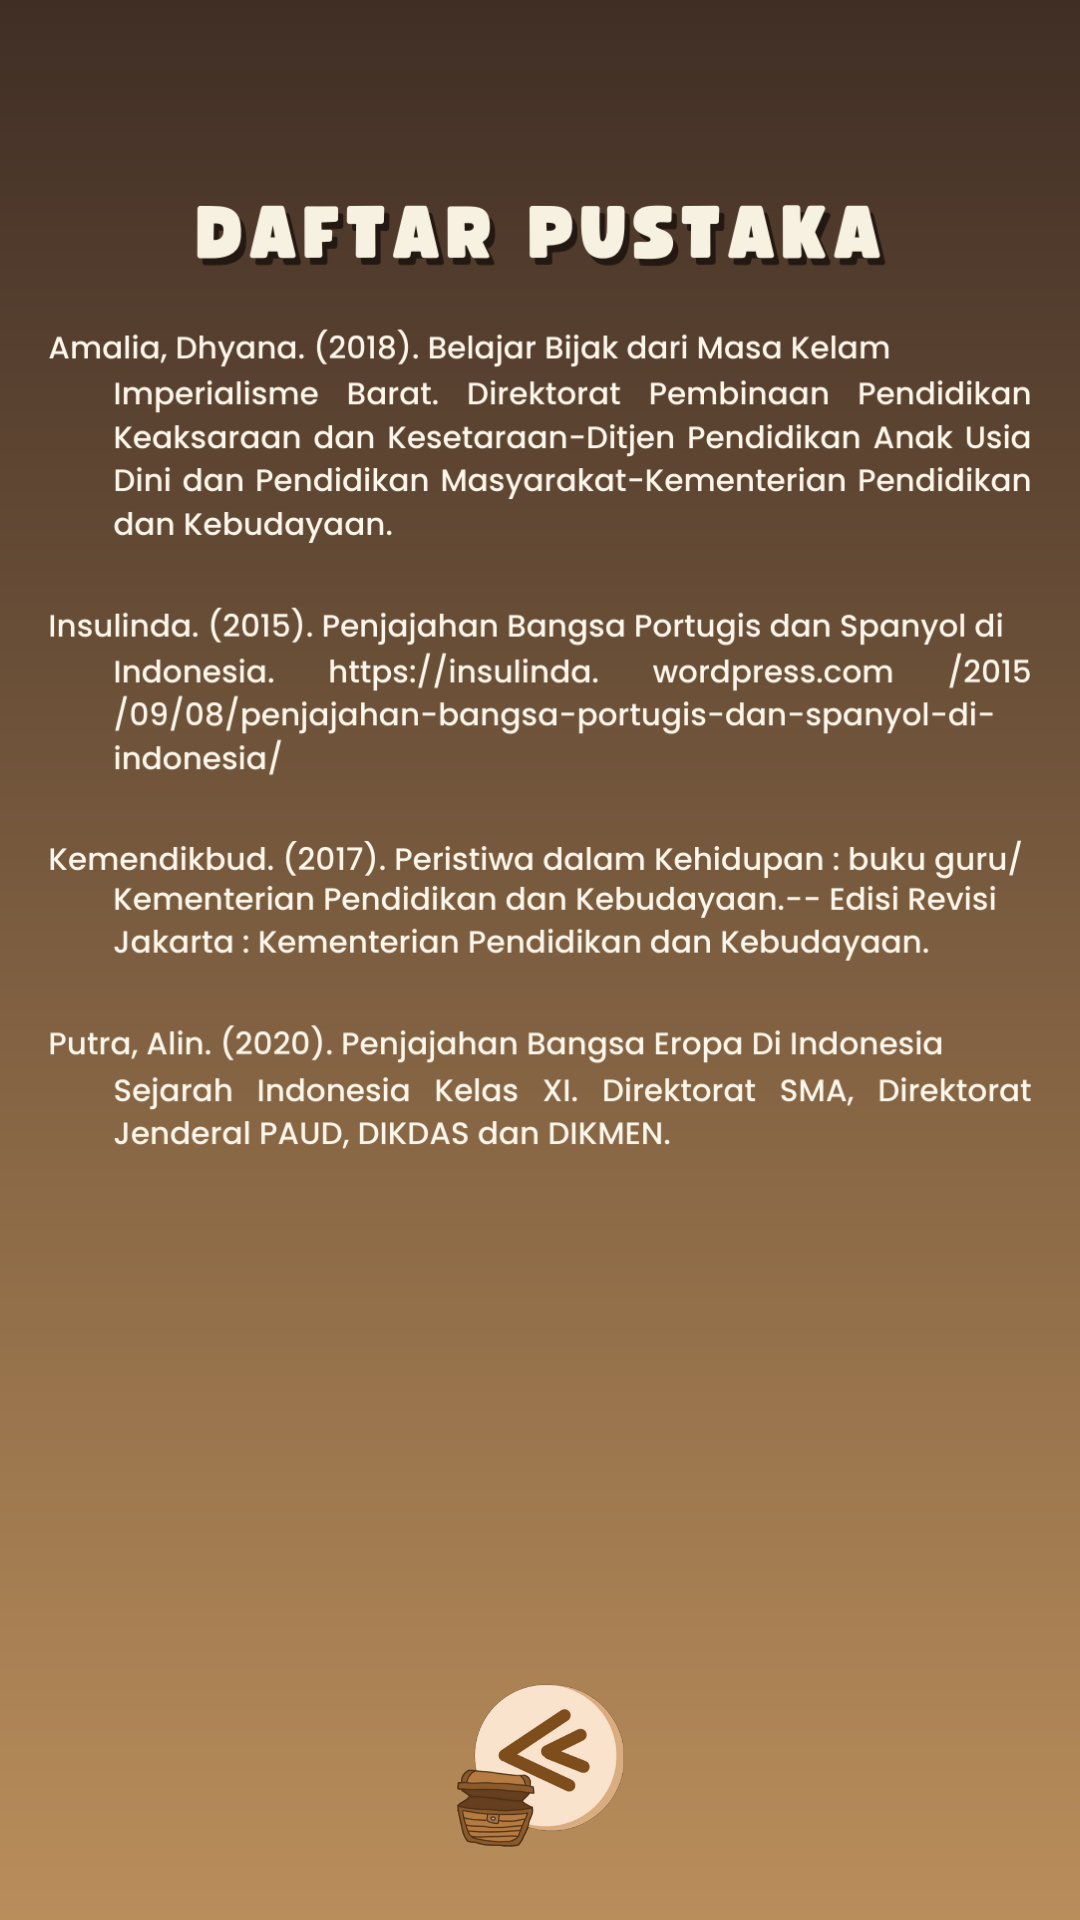

Screen size 1080 x 1920. Icon name, then its center in pixels as [x,y]:
prev: [540,1765]
